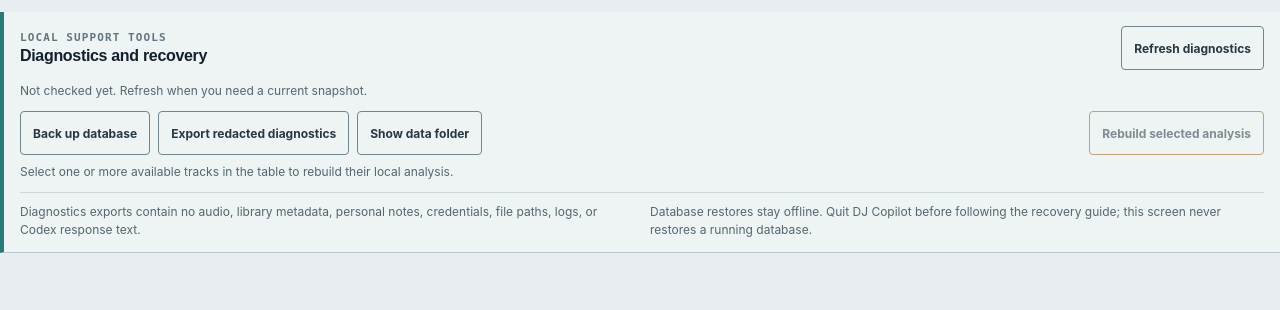
Scenario: DiagnosticsPanel › reports a cancelled database backup without implying a file was written
The image size is (1280, 310).
Step 1. Click the button "Back up database" → (85, 133), box [20,111,150,155]
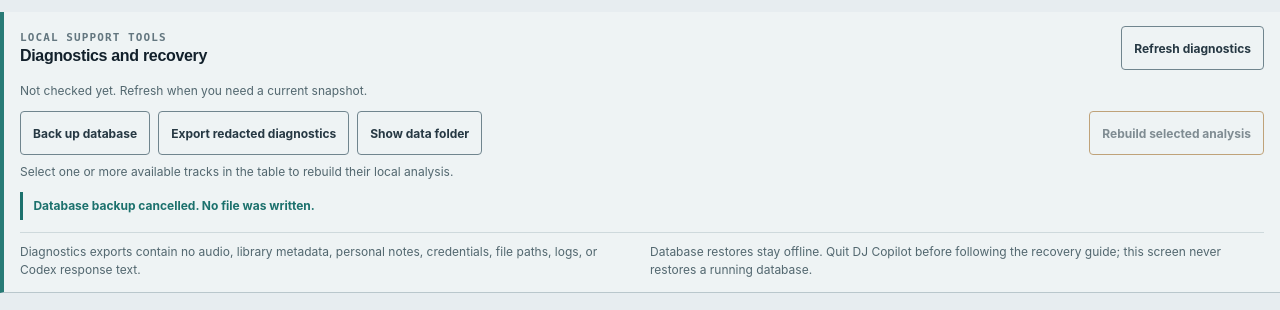
Now the message reads "Database backup cancelled. No file was written.", box [33,198,315,213]
